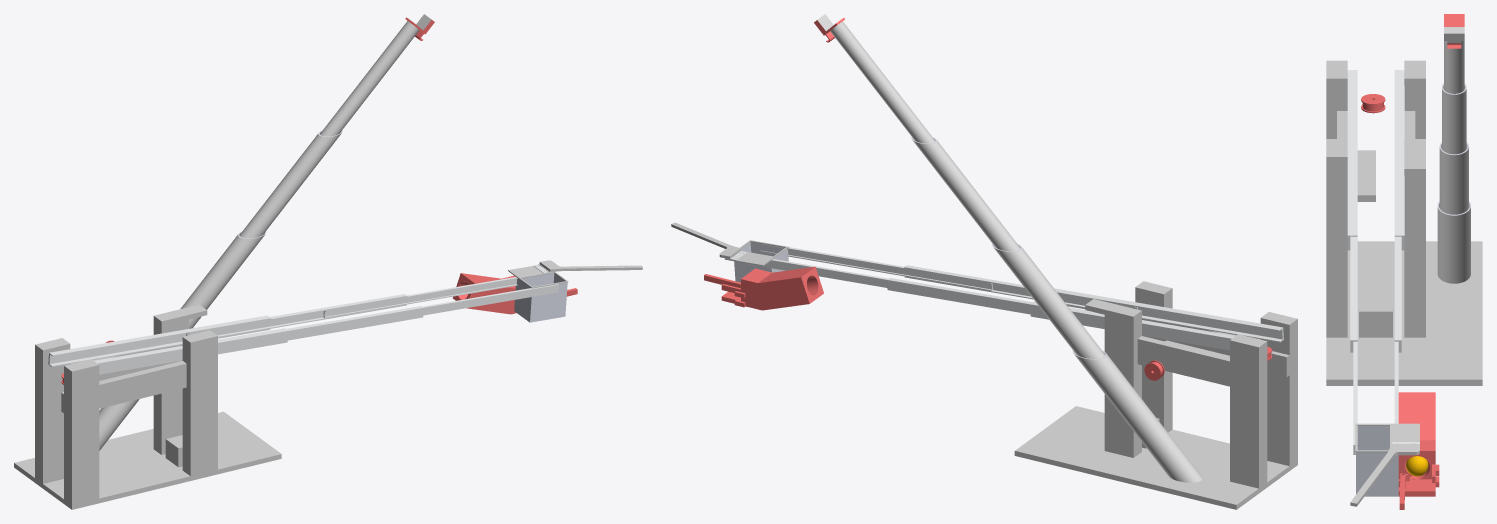
The picture shows the model from 3 angles, left to right: view 1: azimuth 30°, elevation 25°; view 2: azimuth 150°, elevation 25°; view 3: azimuth 270°, elevation 25°; orthographic projection. The views are drawn at different scales.
Parts seen in each view (by area): view 1: Base-1, Sadness PVC Extension-1, Drawer Slider-2, Drawer Slider-1, Crate-2, MM Base-1; view 2: Base-1, Sadness PVC Extension-1, Drawer Slider-1, Drawer Slider-2, MM Base-1, Crate-2; view 3: Base-1, Sadness PVC Extension-1, Drawer Slider-1, Drawer Slider-2, Crate-2, MM Base-1, Extension Piece-1, Spool-1, PP ball-1, shorthead-1.
Part boxes in pixels (x1,y1,x2,y2): Base-1: (14, 304, 281, 509); Sadness PVC Extension-1: (99, 14, 434, 450); Drawer Slider-2: (48, 277, 517, 366); Drawer Slider-1: (94, 284, 558, 374); Crate-2: (508, 266, 568, 322); MM Base-1: (452, 273, 516, 314); Base-1: (1014, 281, 1297, 509); Sadness PVC Extension-1: (814, 14, 1202, 482); Drawer Slider-1: (760, 243, 1283, 342); Drawer Slider-2: (744, 259, 1235, 350); MM Base-1: (721, 266, 823, 310); Crate-2: (724, 240, 788, 282); Base-1: (1326, 60, 1482, 385); Sadness PVC Extension-1: (1437, 14, 1470, 283); Drawer Slider-1: (1347, 70, 1357, 454); Drawer Slider-2: (1394, 70, 1404, 423); Crate-2: (1355, 423, 1419, 496); MM Base-1: (1398, 392, 1439, 496); Extension Piece-1: (1350, 444, 1419, 506); Spool-1: (1361, 94, 1385, 113); PP ball-1: (1406, 456, 1428, 476); shorthead-1: (1398, 473, 1409, 509).
Size of the model in its own units: 1.62 by 0.9611 by 0.2794.
